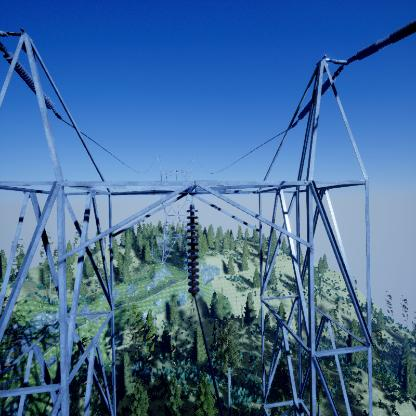insulator: (4, 50, 55, 113), (353, 21, 416, 62), (297, 74, 334, 121), (186, 207, 201, 296)
